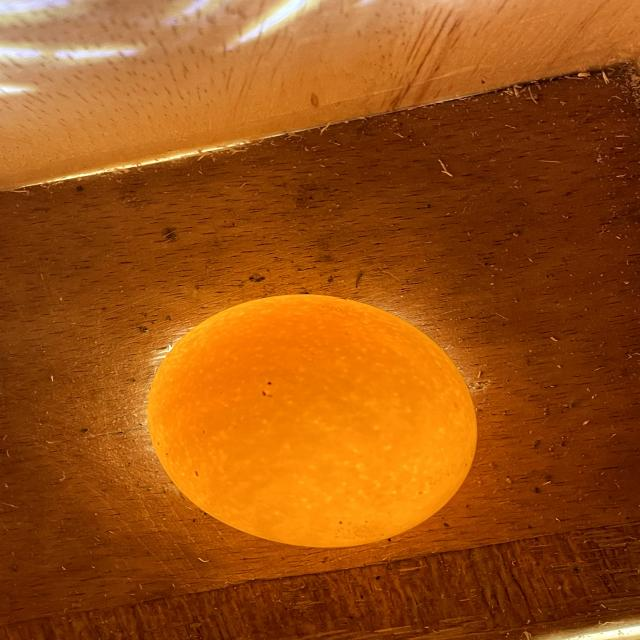infertile: (148, 295, 477, 547)
